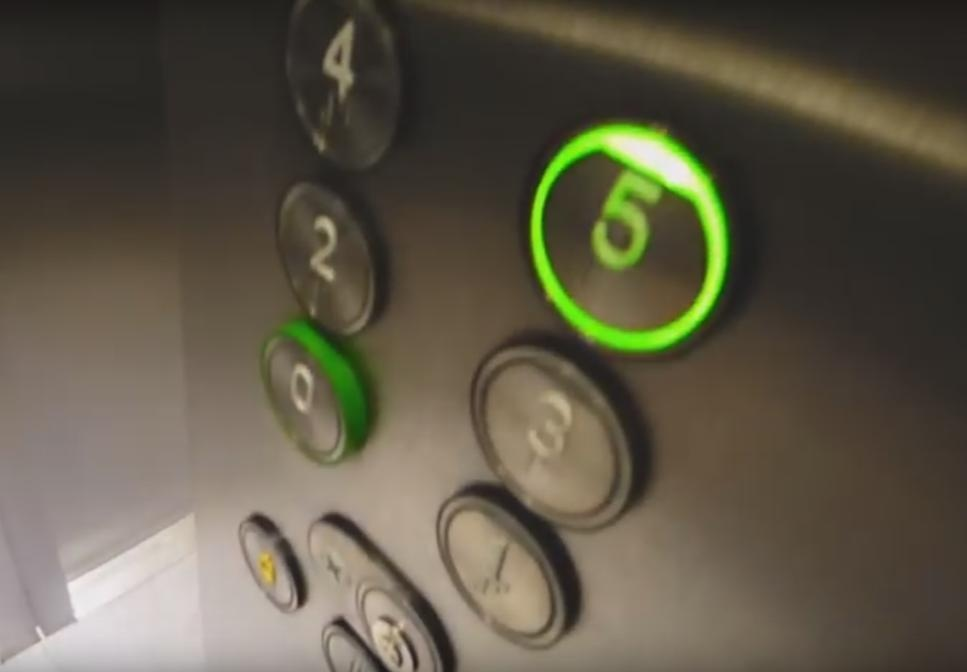0: (257, 319, 370, 468)
1: (436, 483, 583, 654)
2: (275, 173, 387, 342)
3: (469, 329, 654, 535)
4: (282, 1, 408, 177)
5: (518, 115, 743, 361)
alarm: (238, 508, 309, 614)
stop: (307, 511, 452, 672)
